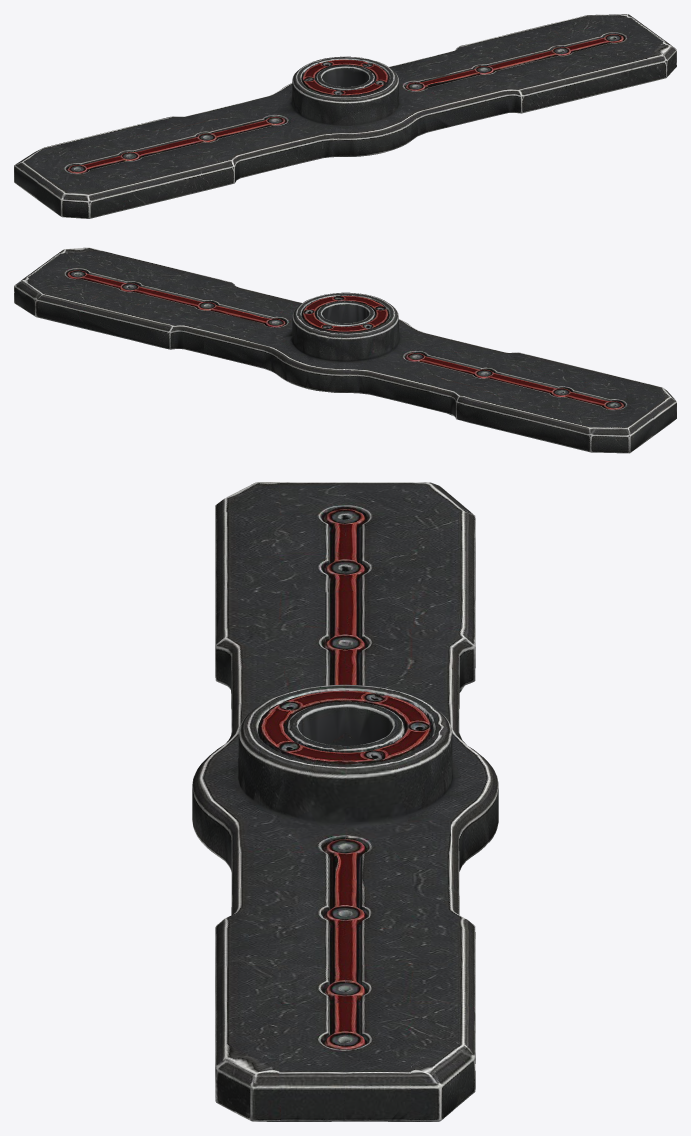
Rendered from bar_spinner.glb.
The picture shows the model from 3 angles, top to bottom: view 1: azimuth 30°, elevation 25°; view 2: azimuth 150°, elevation 25°; view 3: azimuth 270°, elevation 25°; orthographic projection. The views are drawn at different scales.
Parts seen in each view (by area): view 1: mesh_node; view 2: mesh_node; view 3: mesh_node.
Part boxes in pixels (x1,y1,x2,y2): mesh_node: (14, 14, 676, 218); mesh_node: (14, 247, 676, 453); mesh_node: (192, 482, 498, 1121).
Bounding box in the file's own units: 1.9 × 0.168 × 0.4099.
Materials: 1 (1 with a texture image).
